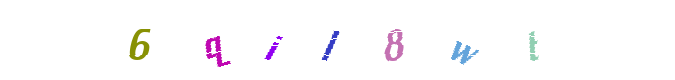6: (99, 0, 179, 80)
8: (327, 0, 407, 80)
I: (290, 0, 370, 80)
L: (298, 0, 378, 80)
Q: (191, 0, 271, 80)
T: (415, 0, 495, 80)
W: (399, 0, 479, 80)
